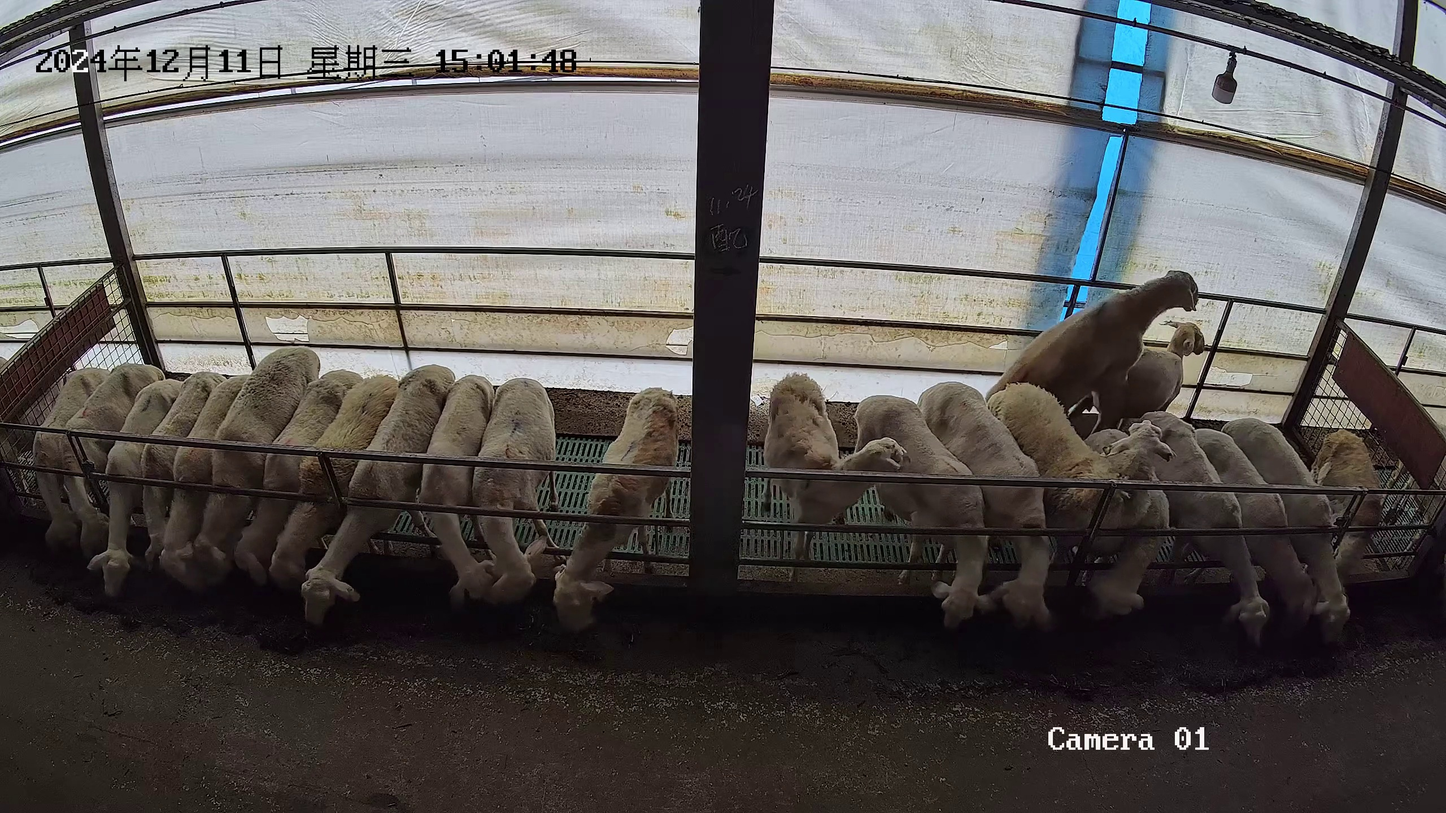Smounting: (983, 267, 1210, 440)
mounted: (1066, 316, 1207, 436)
